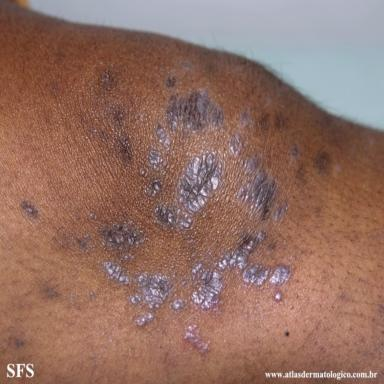lichen: (190, 230, 265, 311), (155, 152, 222, 230), (167, 90, 223, 136), (238, 156, 277, 219), (129, 273, 172, 326), (101, 222, 144, 250), (184, 324, 210, 354), (242, 263, 269, 286), (103, 262, 131, 284), (269, 265, 290, 285), (118, 134, 132, 163), (157, 125, 171, 149), (315, 151, 329, 175), (21, 200, 38, 218), (101, 69, 115, 90), (229, 133, 242, 155), (149, 149, 162, 170), (147, 179, 161, 196), (169, 299, 187, 312), (275, 203, 288, 220), (43, 285, 60, 298), (113, 106, 124, 125), (275, 113, 286, 130), (240, 109, 250, 126), (76, 237, 89, 250), (259, 114, 269, 130), (291, 143, 299, 160), (121, 253, 134, 261), (167, 75, 175, 88), (14, 339, 24, 349), (275, 293, 282, 302)
